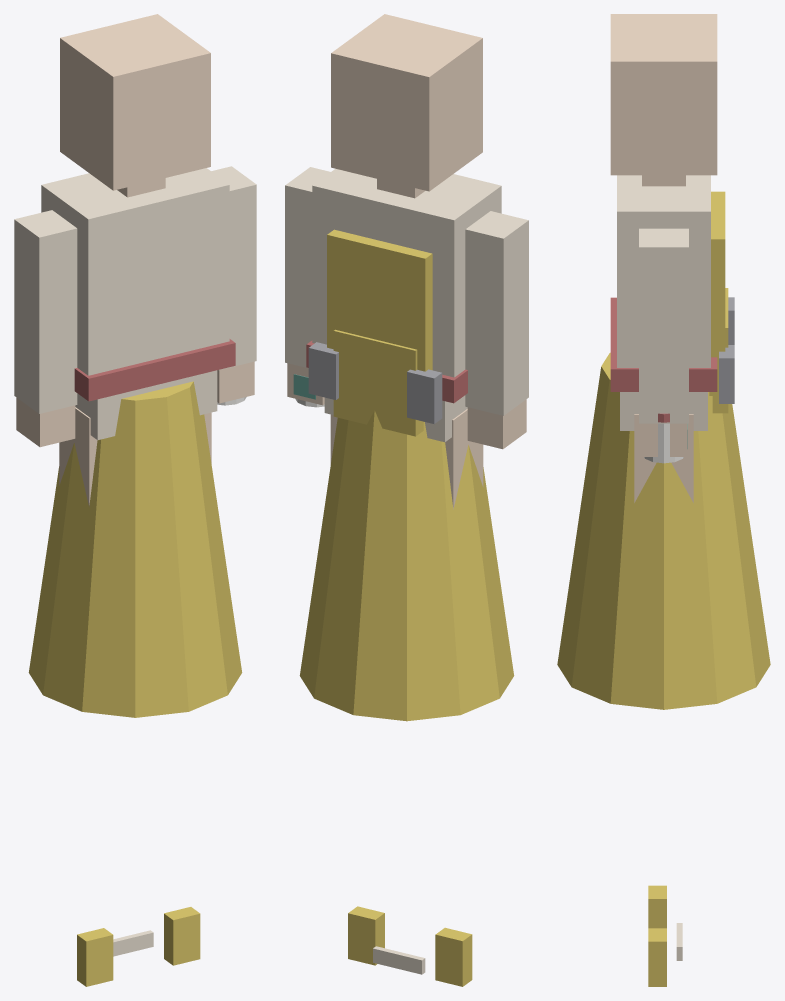
Rendered from psyche.glb.
3 views of the same model, side by side, from view 1: azimuth 30°, elevation 25°; view 2: azimuth 150°, elevation 25°; view 3: azimuth 270°, elevation 25° (orthographic).
Visible parts, largest first — view 1: outfit_robe_0, torso, head, arm_L_upper, arm_R_upper, outfit_belt_0, hips, arm_L_hand, outfit_sandals_1, outfit_sandals_0, leg_L_shin, arm_R_hand (+1 smaller); view 2: outfit_robe_0, head, torso, arm_L_upper, outfit_apron_0, outfit_robe_1, arm_R_upper, arm_L_hand, outfit_sandals_0, outfit_belt_2, outfit_sandals_1, leg_L_shin (+5 smaller); view 3: outfit_robe_0, head, torso, arm_R_upper, outfit_apron_0, outfit_belt_0, leg_R_shin, hips, arm_R_hand, outfit_sandals_1, outfit_belt_1, outfit_sandals_0 (+2 smaller).
Boxes of the visible parts, left/top/right/bottom form: outfit_robe_0: left=28, top=381, right=242, bottom=717; torso: left=41, top=168, right=229, bottom=375; head: left=60, top=14, right=210, bottom=190; arm_L_upper: left=14, top=210, right=77, bottom=413; arm_R_upper: left=211, top=166, right=256, bottom=369; outfit_belt_0: left=74, top=339, right=235, bottom=401; hips: left=75, top=370, right=217, bottom=440; arm_L_hand: left=16, top=397, right=75, bottom=447; outfit_sandals_1: left=164, top=907, right=200, bottom=965; outfit_sandals_0: left=77, top=928, right=113, bottom=986; leg_L_shin: left=59, top=407, right=97, bottom=506; arm_R_hand: left=217, top=361, right=254, bottom=403; outfit_robe_0: left=299, top=410, right=514, bottom=721; head: left=331, top=14, right=482, bottom=191; torso: left=312, top=168, right=501, bottom=377; arm_L_upper: left=465, top=211, right=528, bottom=415; outfit_apron_0: left=327, top=229, right=432, bottom=371; outfit_robe_1: left=333, top=329, right=423, bottom=436; arm_R_upper: left=285, top=167, right=330, bottom=368; arm_L_hand: left=467, top=399, right=526, bottom=449; outfit_sandals_0: left=435, top=927, right=472, bottom=986; outfit_belt_2: left=407, top=369, right=442, bottom=423; outfit_sandals_1: left=348, top=906, right=384, bottom=965; leg_L_shin: left=445, top=409, right=483, bottom=509; outfit_robe_0: left=557, top=352, right=770, bottom=709; head: left=610, top=14, right=717, bottom=175; torso: left=617, top=175, right=710, bottom=367; arm_R_upper: left=639, top=228, right=688, bottom=423; outfit_apron_0: left=709, top=191, right=725, bottom=395; outfit_belt_0: left=610, top=297, right=717, bottom=391; leg_R_shin: left=634, top=414, right=693, bottom=502; hips: left=620, top=392, right=707, bottom=430; arm_R_hand: left=640, top=423, right=687, bottom=456; outfit_sandals_1: left=648, top=928, right=666, bottom=986; outfit_belt_1: left=719, top=345, right=734, bottom=403; outfit_sandals_0: left=648, top=885, right=666, bottom=928.
Size of the model in its own units: 0.805 by 3.24 by 0.68.
